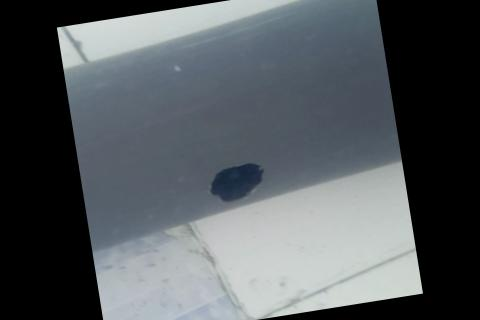kebocoran: (205, 158, 269, 205)
